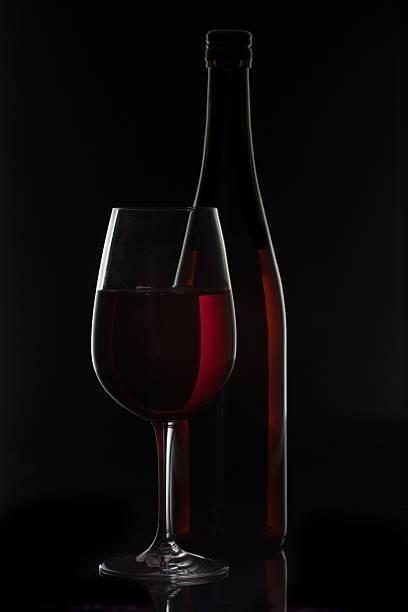bottle-glass: (169, 23, 291, 564)
glass-wine: (89, 202, 237, 583)
